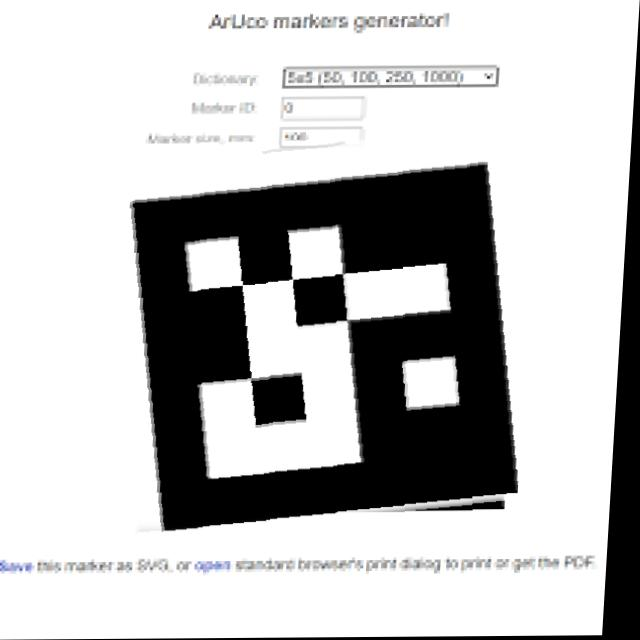aruco: (81, 139, 541, 534)
